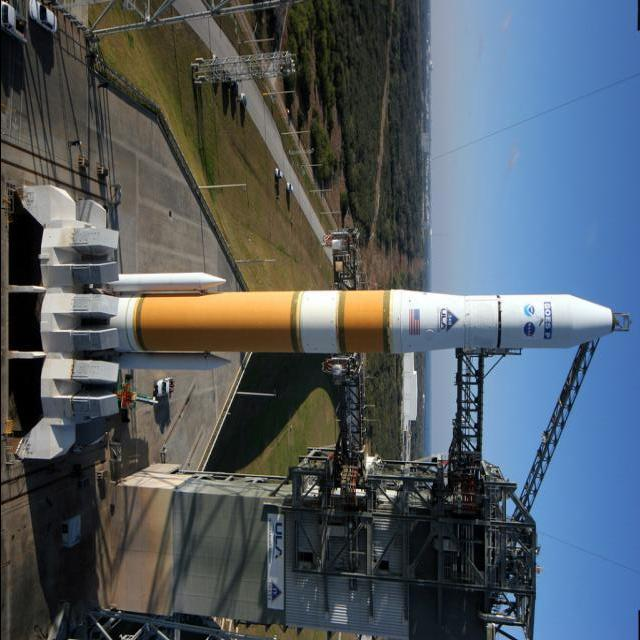Missile: (95, 283, 628, 353)
